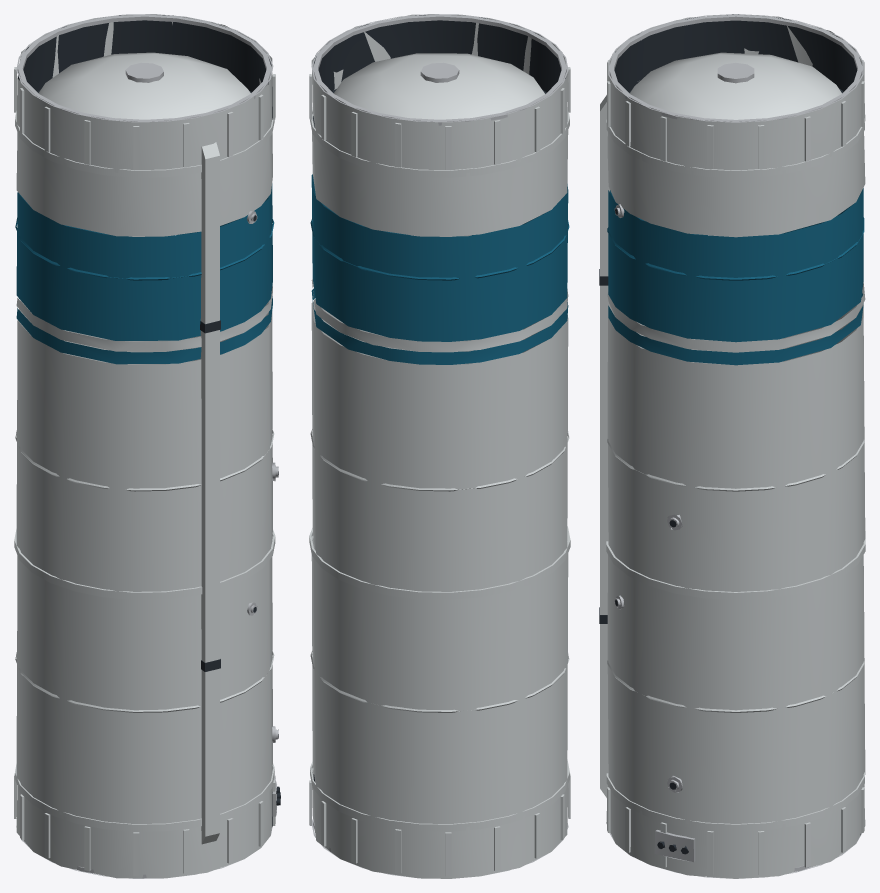
Rendered from tank_s2_l.glb.
The picture shows the model from 3 angles, left to right: view 1: azimuth 30°, elevation 25°; view 2: azimuth 150°, elevation 25°; view 3: azimuth 270°, elevation 25°; orthographic projection.
Parts seen in each view (by area): view 1: tank_s2_l_mesh; view 2: tank_s2_l_mesh; view 3: tank_s2_l_mesh.
Boxes of the visible parts, left/top/right/bottom form: tank_s2_l_mesh: left=14, top=14, right=280, bottom=878; tank_s2_l_mesh: left=309, top=14, right=570, bottom=878; tank_s2_l_mesh: left=599, top=14, right=865, bottom=878.
Size of the model in its own units: 3.76 by 12 by 3.83.
